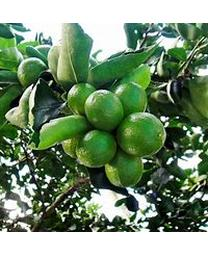lemon: (117, 112, 166, 157), (85, 90, 124, 131), (75, 131, 117, 167), (105, 150, 144, 187), (113, 82, 148, 118), (67, 83, 98, 118)
